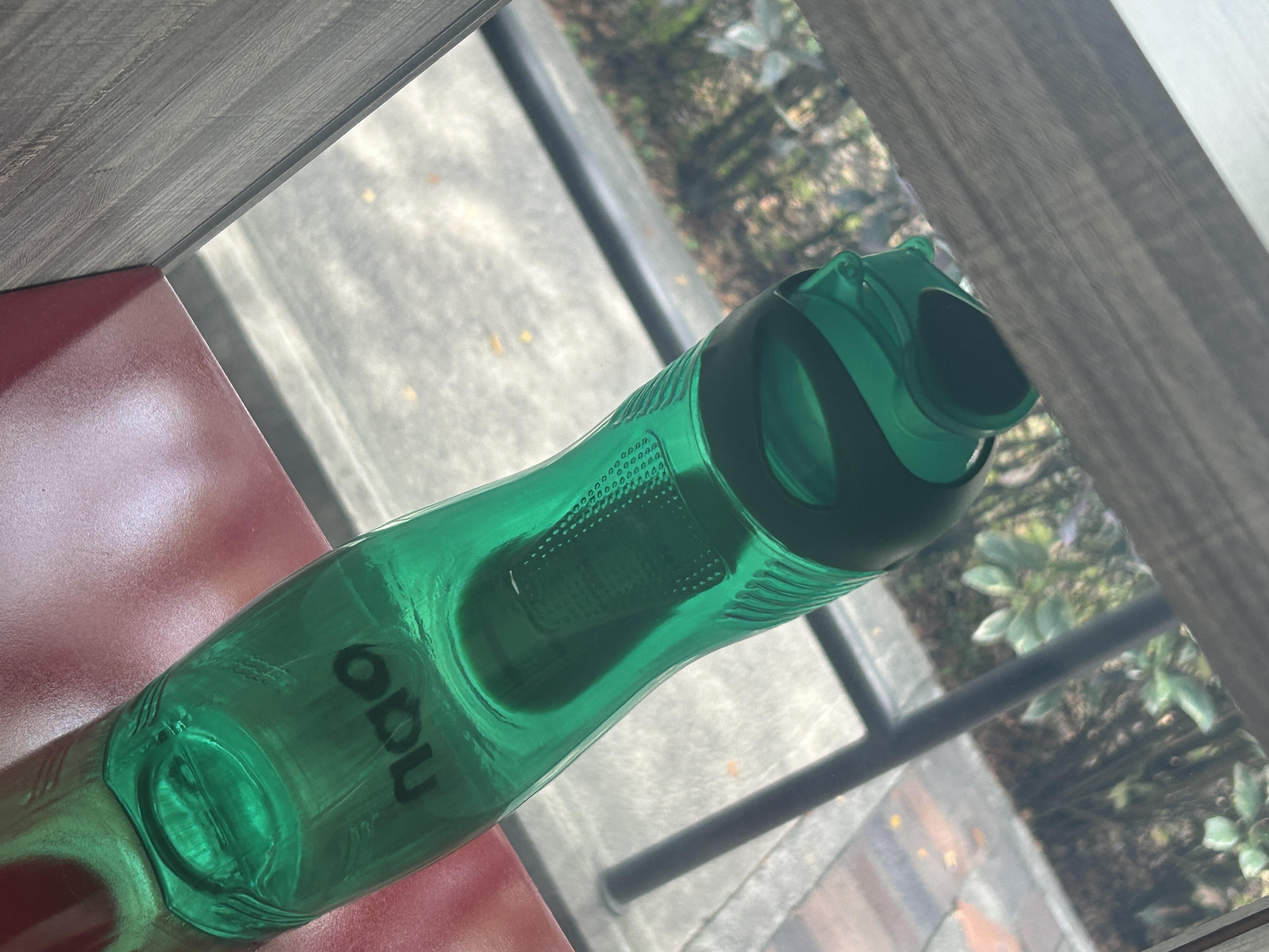termo: (104, 239, 1036, 942)
